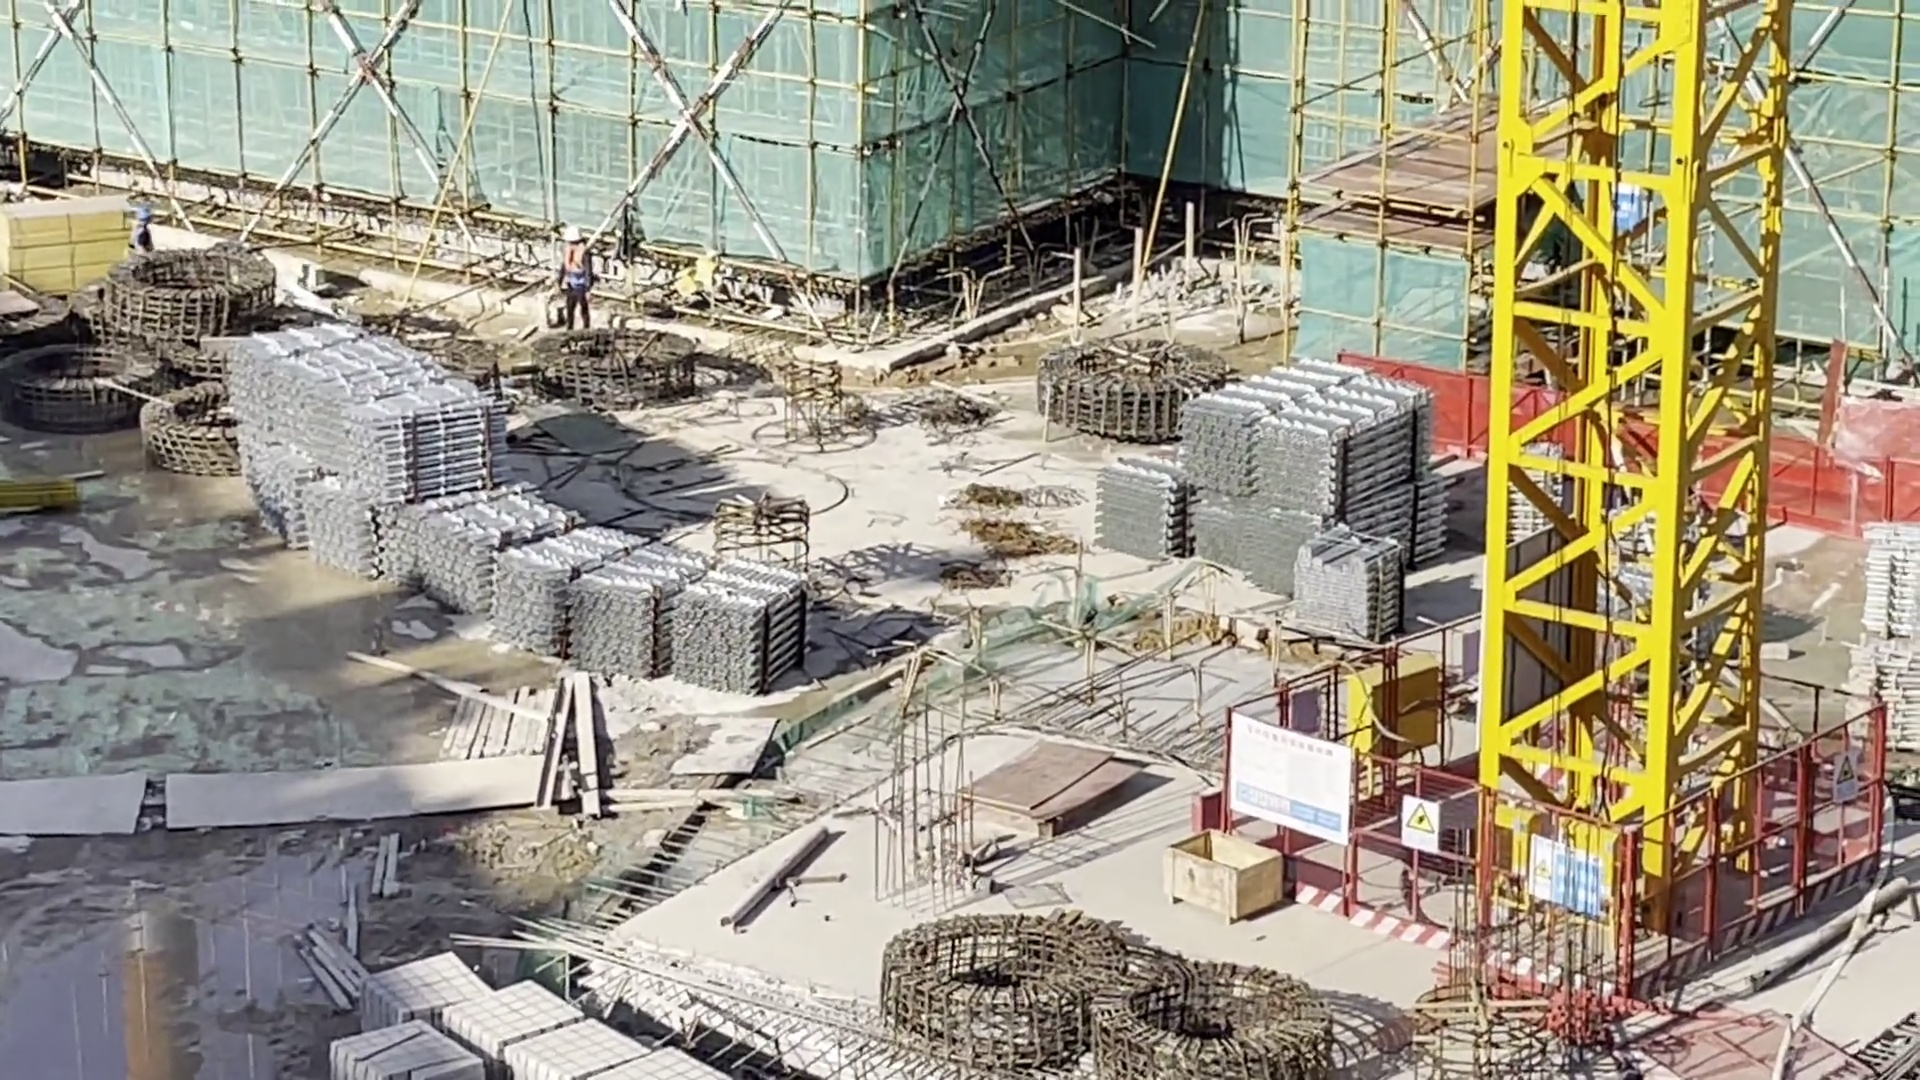board: (11, 196, 129, 292)
ebox: (1498, 789, 1633, 906), (1359, 654, 1453, 742)
fence: (1184, 752, 1606, 966), (1604, 717, 1873, 962), (1791, 446, 1920, 536)
helmet: (561, 224, 586, 247), (134, 209, 148, 222)
person: (556, 223, 588, 318), (133, 205, 154, 253)
scaffold: (249, 321, 493, 584), (496, 524, 798, 681), (1209, 382, 1419, 594), (1066, 452, 1183, 544), (1308, 536, 1386, 647)
vest: (561, 255, 591, 301), (128, 225, 148, 252)
